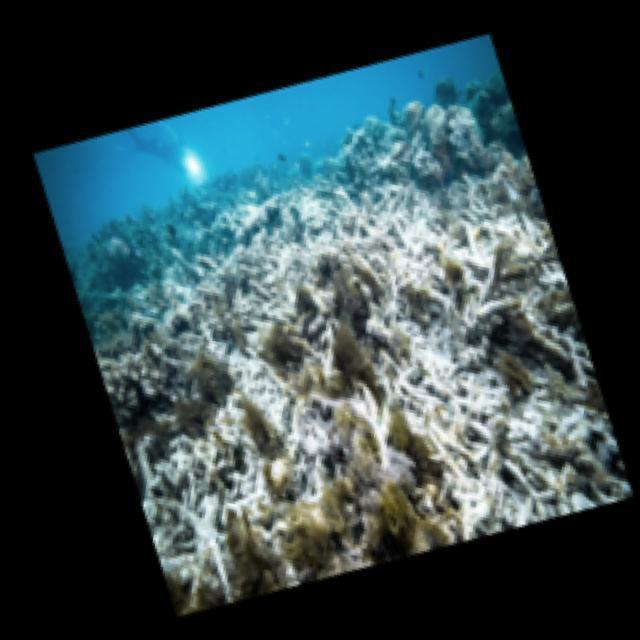Dead Coral: (280, 85, 539, 403), (335, 281, 595, 582), (142, 325, 357, 592), (130, 187, 313, 374)
